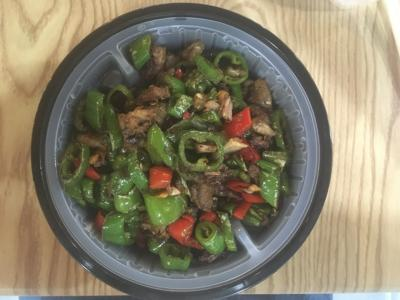cqj: (94, 74, 279, 236)
